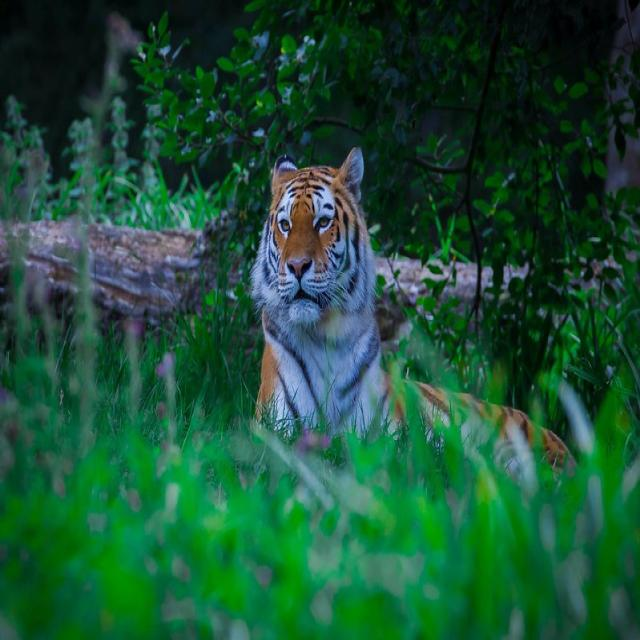Tiger: (260, 144, 571, 477)
